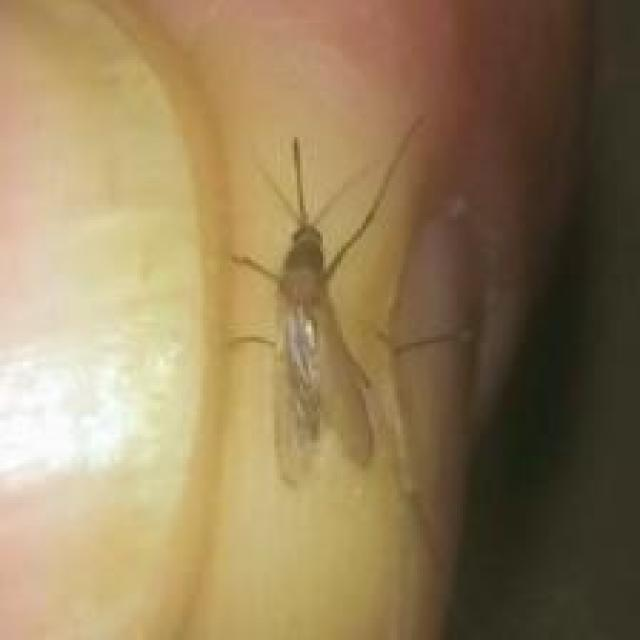Culex: (224, 111, 430, 488)
